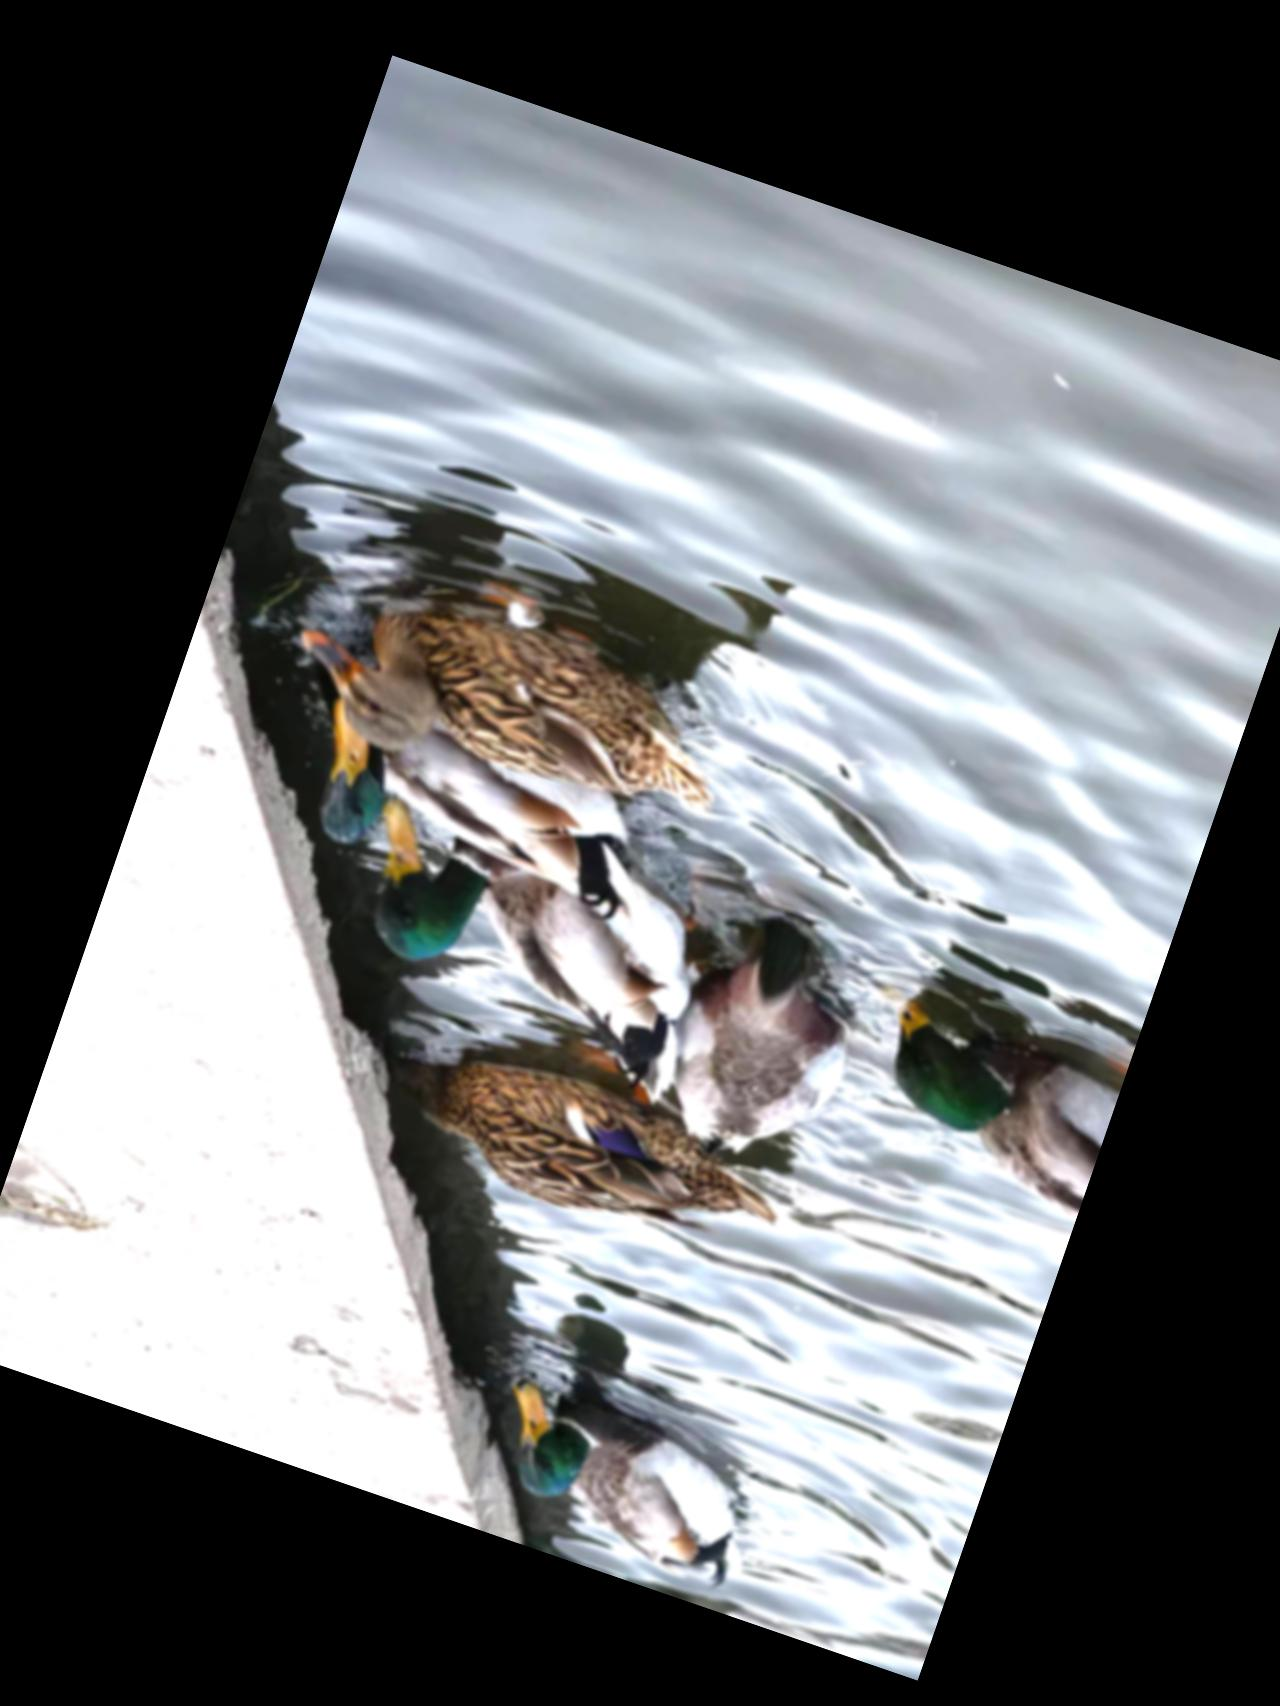duck: (285, 562, 752, 852), (360, 1020, 840, 1301), (337, 780, 756, 1086), (277, 672, 684, 954), (450, 1327, 812, 1608), (830, 985, 1125, 1219), (636, 911, 883, 1183)
